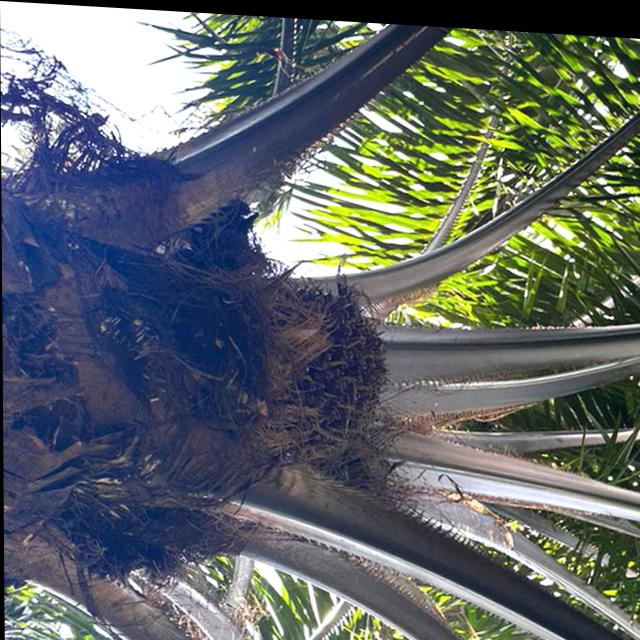almost: (231, 261, 397, 458)
